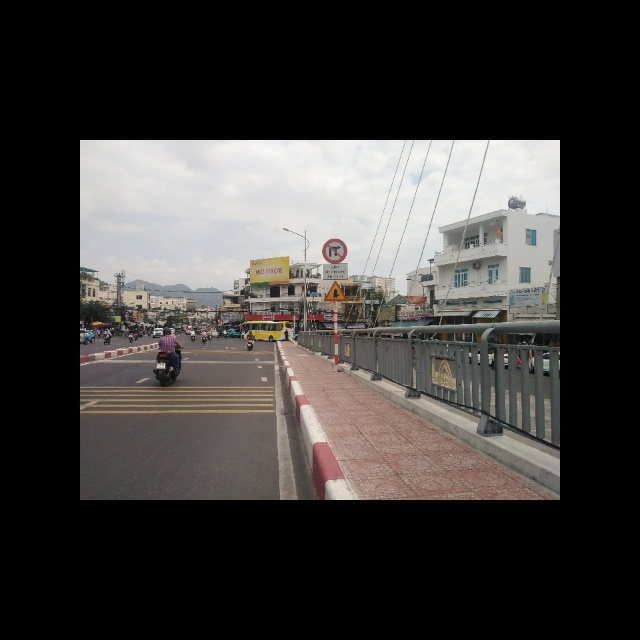Cấm quay đầu và rẽ phải: (322, 238, 348, 264)
Giao nhau với đường không ưu tiên: (323, 281, 347, 302)
